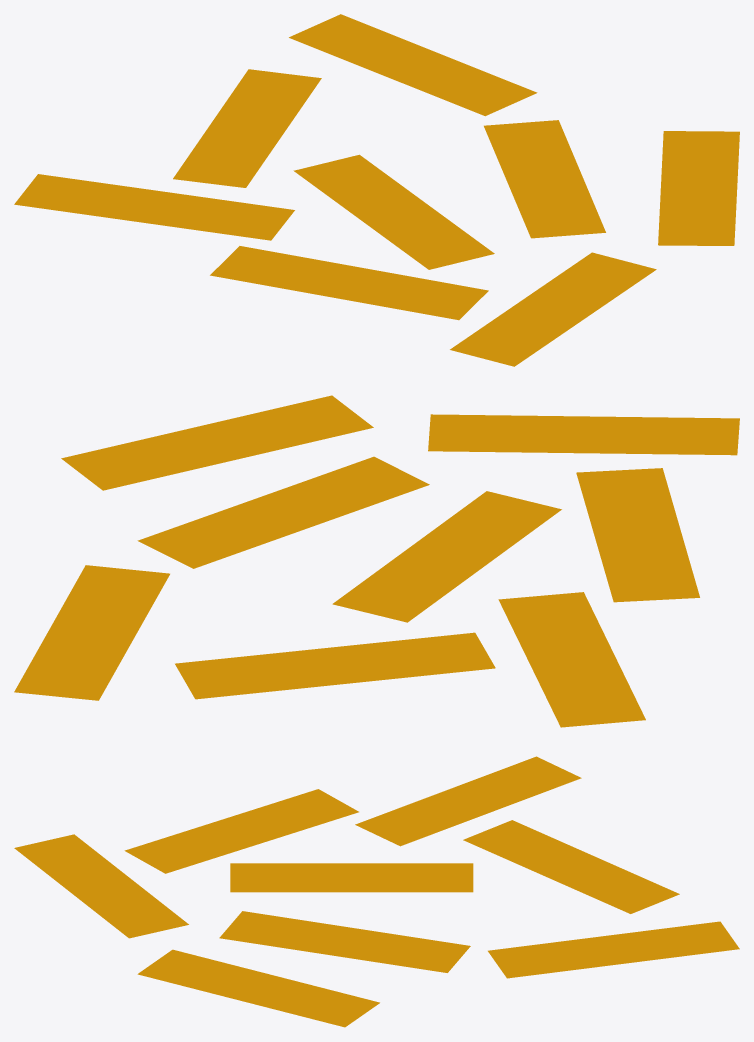
Rendered from fries.fbx.
3 renders of one model, top to bottom at view 1: azimuth 30°, elevation 25°; view 2: azimuth 150°, elevation 25°; view 3: azimuth 270°, elevation 25°, orthographic. The views are drawn at different scales.
Parts seen in each view (by area): view 1: Plane.007, Plane.003, Plane.004, Plane.006, Plane, Plane.002, Plane.005, Plane.001; view 2: Plane.006, Plane.005, Plane.001, Plane.002, Plane, Plane.007, Plane.003, Plane.004; view 3: Plane, Plane.003, Plane.002, Plane.001, Plane.004, Plane.007, Plane.005, Plane.006.
Part boxes in pixels (x1=…): Plane.007: x1=14, y1=174, x2=294, y2=240; Plane.003: x1=289, y1=14, x2=537, y2=116; Plane.004: x1=210, y1=246, x2=488, y2=320; Plane.006: x1=450, y1=252, x2=656, y2=366; Plane: x1=293, y1=154, x2=494, y2=269; Plane.002: x1=484, y1=120, x2=605, y2=238; Plane.005: x1=173, y1=69, x2=321, y2=187; Plane.001: x1=658, y1=131, x2=739, y2=245; Plane.006: x1=428, y1=414, x2=739, y2=455; Plane.005: x1=175, y1=632, x2=495, y2=699; Plane.001: x1=61, y1=395, x2=373, y2=490; Plane.002: x1=137, y1=456, x2=429, y2=568; Plane: x1=332, y1=491, x2=561, y2=622; Plane.007: x1=498, y1=592, x2=645, y2=727; Plane.003: x1=14, y1=565, x2=169, y2=700; Plane.004: x1=576, y1=468, x2=699, y2=602; Plane: x1=230, y1=863, x2=473, y2=892; Plane.003: x1=488, y1=921, x2=739, y2=978; Plane.002: x1=219, y1=911, x2=470, y2=972; Plane.001: x1=137, y1=949, x2=379, y2=1027; Plane.004: x1=124, y1=789, x2=358, y2=873; Plane.007: x1=355, y1=756, x2=581, y2=846; Plane.005: x1=463, y1=820, x2=679, y2=913; Plane.006: x1=14, y1=834, x2=188, y2=938.
Size of the model in its own units: 539 by 5.02e-05 by 610.
